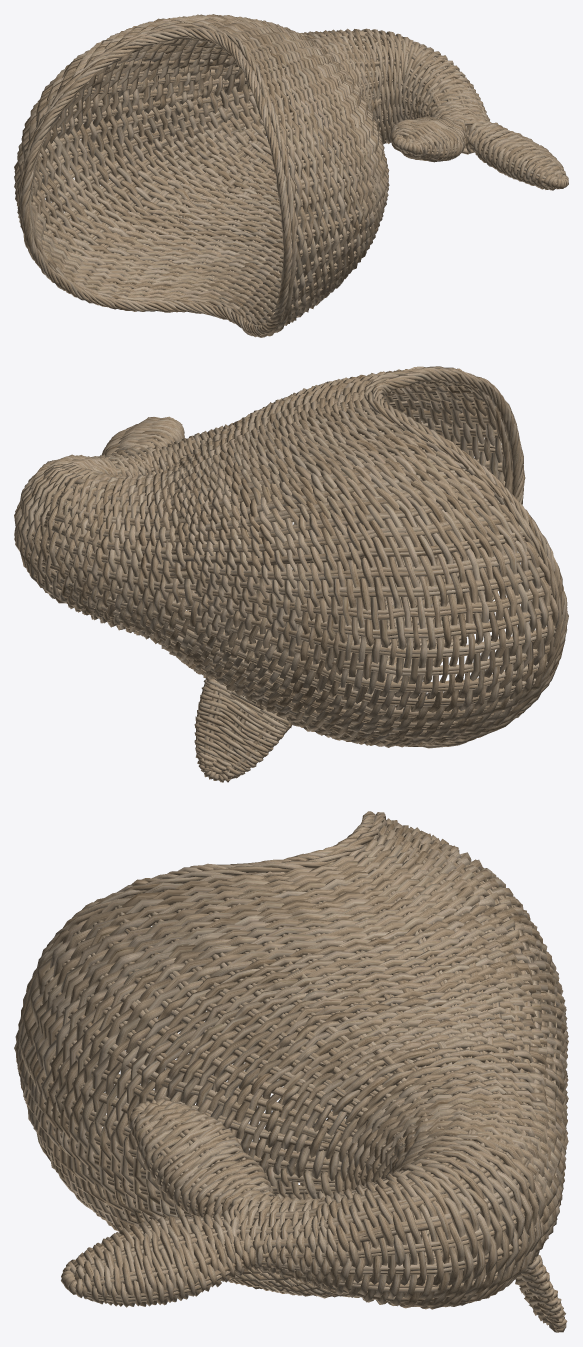
Rendered from whale-wicker-basket-opt.glb.
The picture shows the model from 3 angles, top to bottom: view 1: azimuth 30°, elevation 25°; view 2: azimuth 150°, elevation 25°; view 3: azimuth 270°, elevation 25°; orthographic projection. The views are drawn at different scales.
Visible parts, largest first — view 1: whale_Tessellation_fins; view 2: whale_Tessellation_fins; view 3: whale_Tessellation_fins.
Part boxes in pixels (box(x1,y1,x2,y2)): whale_Tessellation_fins: box(14, 14, 568, 337); whale_Tessellation_fins: box(14, 366, 568, 782); whale_Tessellation_fins: box(14, 811, 568, 1332).
Bounding box in the file's own units: 0.6909 × 0.4201 × 0.4799.
1 material, 1 textured.
